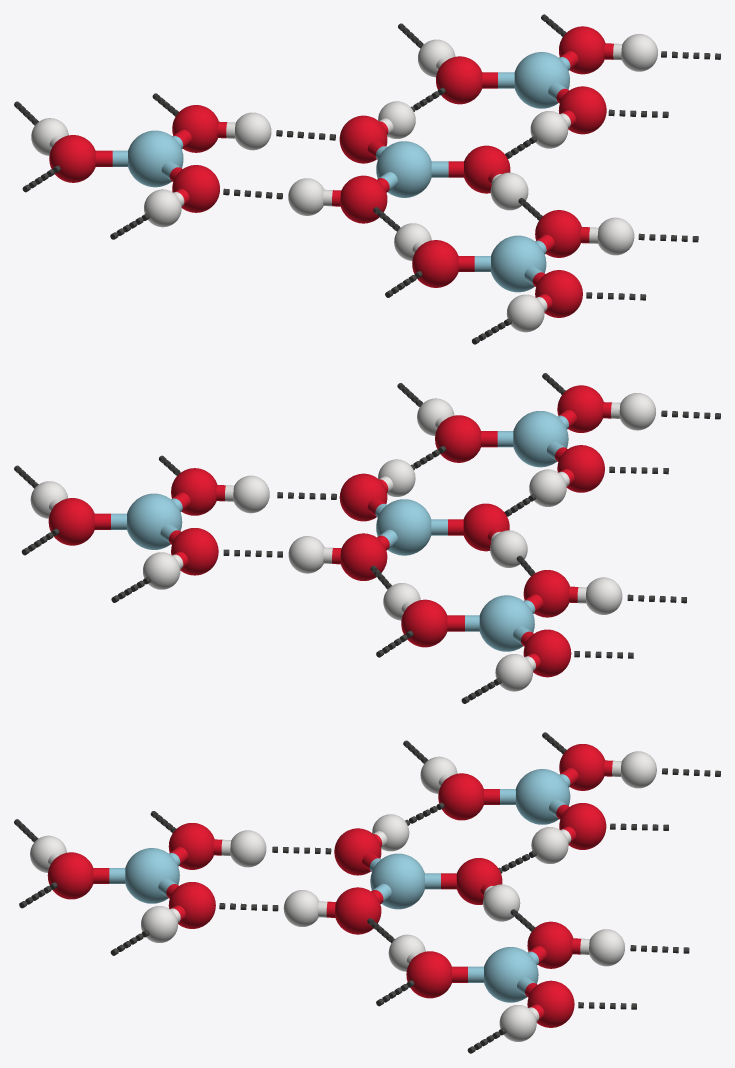
The model's file is jingti1.FBX.
3 renders of one model, top to bottom at view 1: azimuth 30°, elevation 25°; view 2: azimuth 150°, elevation 25°; view 3: azimuth 270°, elevation 25°, orthographic.
Parts seen in each view (by area): view 1: F1; view 2: F1; view 3: F1.
Part boxes in pixels (x1,y1,x2,y2): F1: [14, 14, 720, 344]; F1: [14, 373, 720, 703]; F1: [14, 732, 720, 1053].
Bounding box in the file's own units: 121 × 9 × 114.
